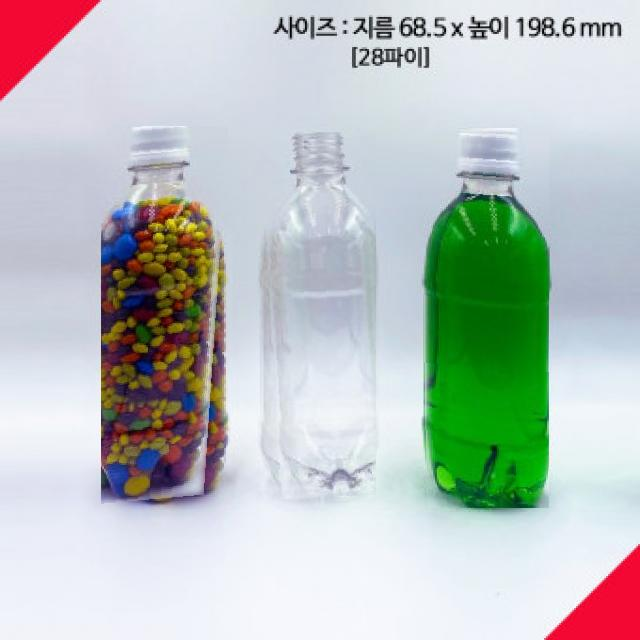plastic bottle: (422, 126, 550, 508), (102, 126, 230, 506), (260, 132, 376, 499)
